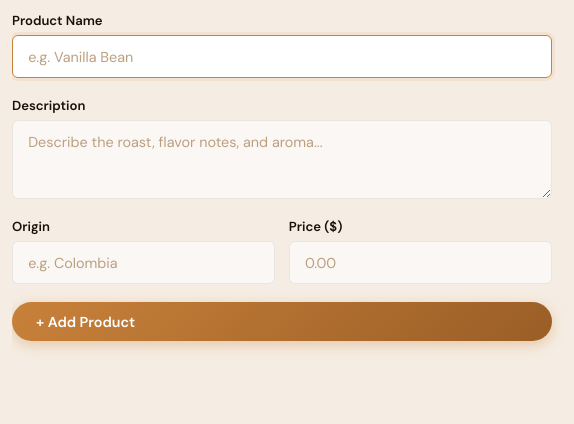
Test: ProductForm › shows validation error when fields are empty
What coordinates should you click on to do the following:
click the button "+ Add Product"
I would click on:
 (85, 322)
Its box is [12,302,552,341].
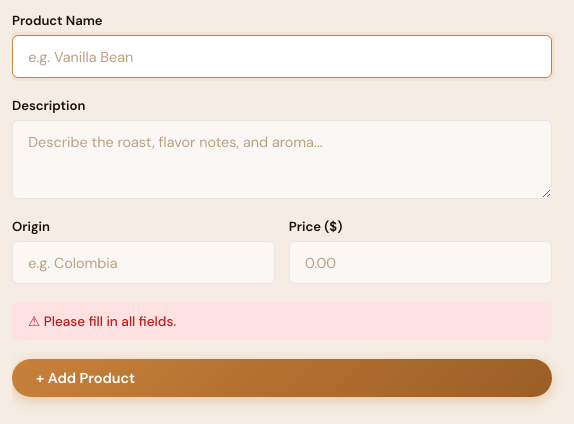
Check: the message "⚠ Please fill in all fields." is shown, box [12,302,552,340]
